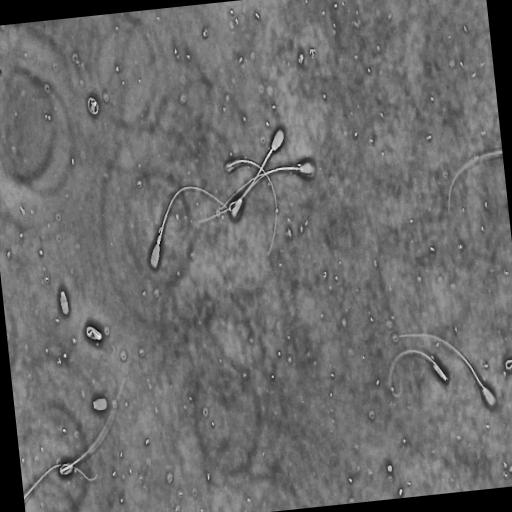coiled-tail: (84, 324, 103, 342)
dirt-particles: (87, 94, 100, 116)
folded-tail: (389, 350, 437, 395)
loose-head: (59, 289, 70, 317), (92, 395, 108, 413)
loose-tail: (223, 155, 280, 260), (24, 461, 99, 503), (504, 357, 512, 372)
normal: (196, 124, 288, 225), (395, 328, 498, 410), (58, 373, 132, 480), (149, 183, 232, 272), (216, 157, 317, 210), (388, 348, 449, 399)
